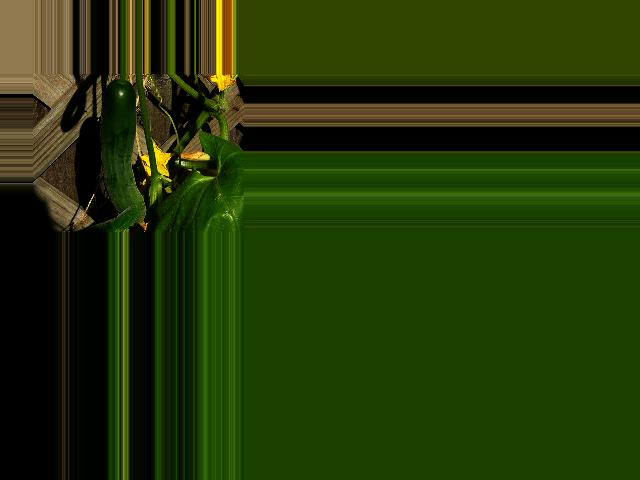cucumber: (99, 81, 145, 231)
